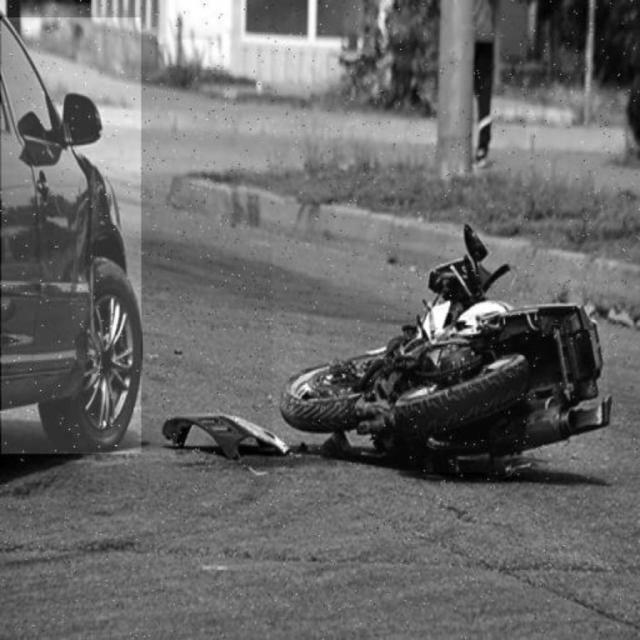vehicle: (274, 242, 609, 473), (1, 18, 141, 454)
